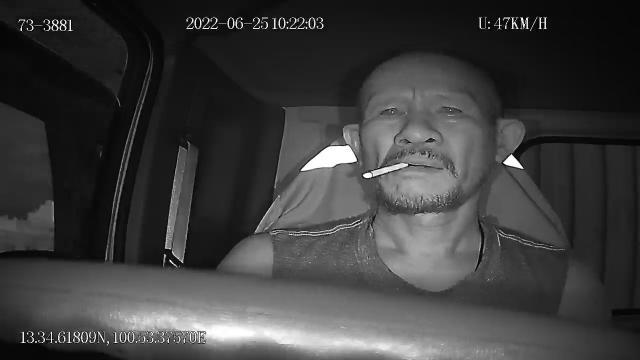SafeDriving: (429, 94, 473, 125), (368, 98, 412, 127)
Smoking: (362, 161, 408, 179)
